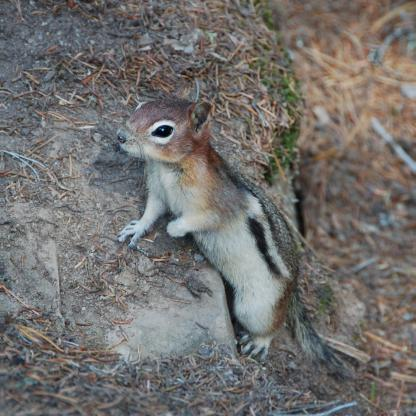Squirrel: (112, 96, 362, 380)
